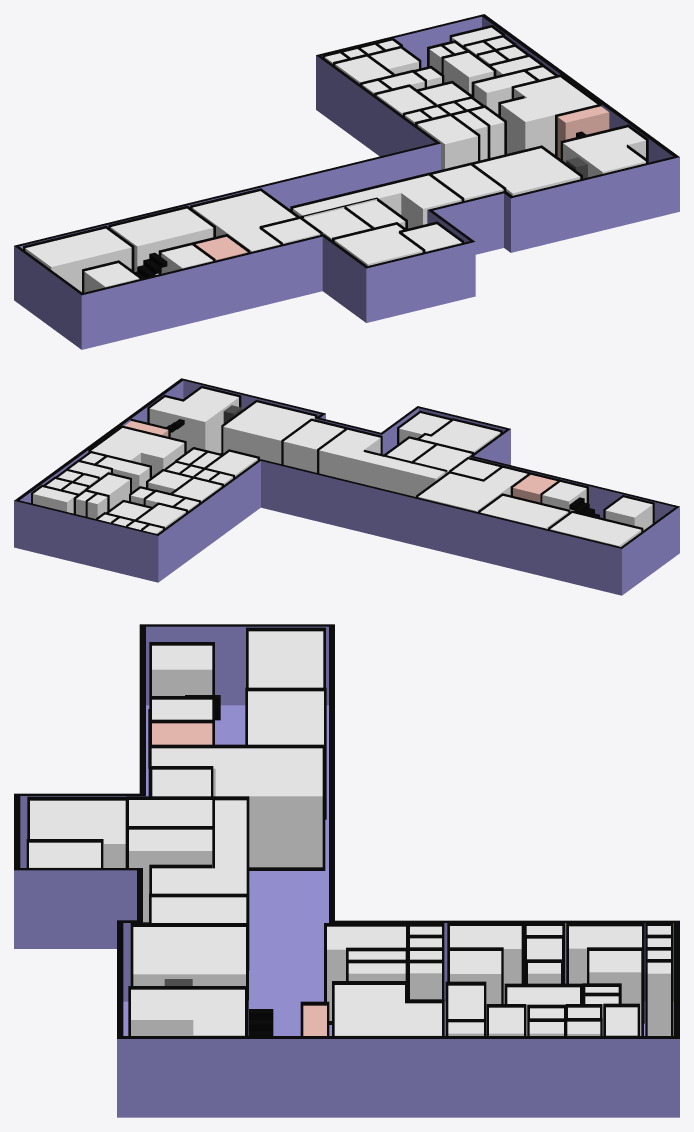
3 renders of one model, top to bottom at view 1: azimuth 30°, elevation 25°; view 2: azimuth 150°, elevation 25°; view 3: azimuth 270°, elevation 25°, orthographic. The views are drawn at different scales.
Parts seen in each view (by area): view 1: object, room_4_3_24, room_4_3_39, room_4_3_25, room_4_3_43, room_4_3_21, room_4_3_36, room_4_3_37, room_4_3_38, room_4_3_31, room_4_3_40, トイレ_4_3_2 (+16 smaller); view 2: object, room_4_3_39, room_4_3_37, room_4_3_36, room_4_3_43, room_4_3_24, room_4_3_40, room_4_3_25, room_4_3_21, room_4_3_38, room_4_3_20, room_4_3_42 (+21 smaller); view 3: object, room_4_3_43, room_4_3_36, room_4_3_37, room_4_3_24, room_4_3_39, room_4_3_38, room_4_3_25, room_4_3_21, room_4_3_22, room_4_3_20, room_4_3_31 (+28 smaller).
Part boxes in pixels (left/top/right/bottom): object: left=14, top=14, right=679, bottom=349; room_4_3_24: left=501, top=77, right=597, bottom=154; room_4_3_39: left=293, top=175, right=461, bottom=228; room_4_3_25: left=25, top=228, right=131, bottom=291; room_4_3_43: left=192, top=191, right=295, bottom=251; room_4_3_21: left=110, top=208, right=213, bottom=274; room_4_3_36: left=474, top=148, right=580, bottom=195; room_4_3_37: left=563, top=127, right=645, bottom=177; room_4_3_38: left=334, top=225, right=422, bottom=265; room_4_3_31: left=417, top=116, right=477, bottom=169; room_4_3_40: left=433, top=165, right=503, bottom=200; トイレ_4_3_2: left=557, top=106, right=609, bottom=158; object: left=14, top=378, right=679, bottom=595; room_4_3_39: left=319, top=429, right=444, bottom=496; room_4_3_37: left=149, top=388, right=238, bottom=453; room_4_3_36: left=223, top=402, right=314, bottom=463; room_4_3_43: left=418, top=468, right=527, bottom=511; room_4_3_24: left=91, top=428, right=184, bottom=476; room_4_3_40: left=283, top=421, right=343, bottom=472; room_4_3_25: left=550, top=513, right=641, bottom=546; room_4_3_21: left=480, top=496, right=568, bottom=528; room_4_3_38: left=420, top=420, right=500, bottom=452; room_4_3_20: left=605, top=497, right=652, bottom=530; room_4_3_42: left=413, top=445, right=471, bottom=473; object: left=14, top=624, right=679, bottom=1117; room_4_3_43: left=151, top=748, right=322, bottom=867; room_4_3_36: left=133, top=927, right=245, bottom=985; room_4_3_37: left=131, top=989, right=244, bottom=1035; room_4_3_24: left=334, top=985, right=441, bottom=1035; room_4_3_39: left=152, top=800, right=246, bottom=893; room_4_3_38: left=30, top=800, right=125, bottom=867; room_4_3_25: left=248, top=631, right=323, bottom=687; room_4_3_21: left=248, top=691, right=323, bottom=744; room_4_3_22: left=129, top=829, right=212, bottom=922; room_4_3_20: left=152, top=645, right=212, bottom=695; room_4_3_31: left=327, top=926, right=405, bottom=1020.
Bounding box in the file's own units: 2.83 × 0.2535 × 1.92.
